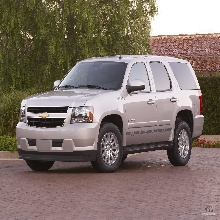no damage: (16, 54, 206, 170)
